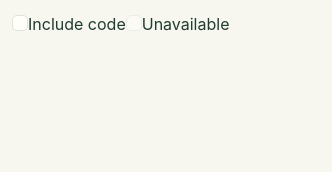
Test: checkbox labels and Space toggle once without submitting the form
Later steps or results of the test are not shown.
Click the text "Include code": (69, 24) [12,14,126,34]
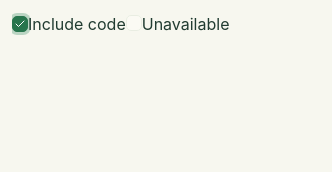
Now the checkbox named "Include code" next to "Include code" is checked, box [12,16,28,32]
Type keys " "
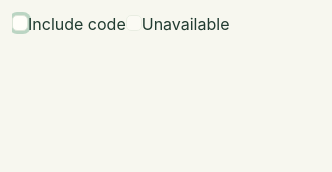
Now the checkbox named "Include code" next to "Include code" is not checked, box [12,15,28,31]
